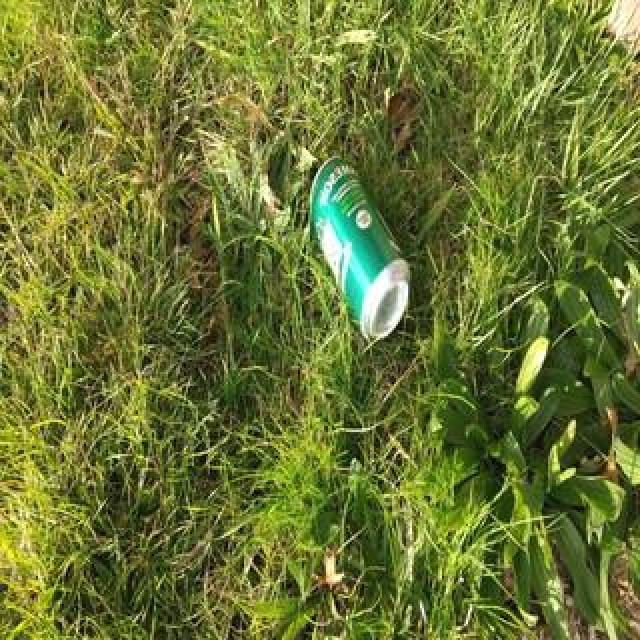Can: (305, 148, 421, 352)
